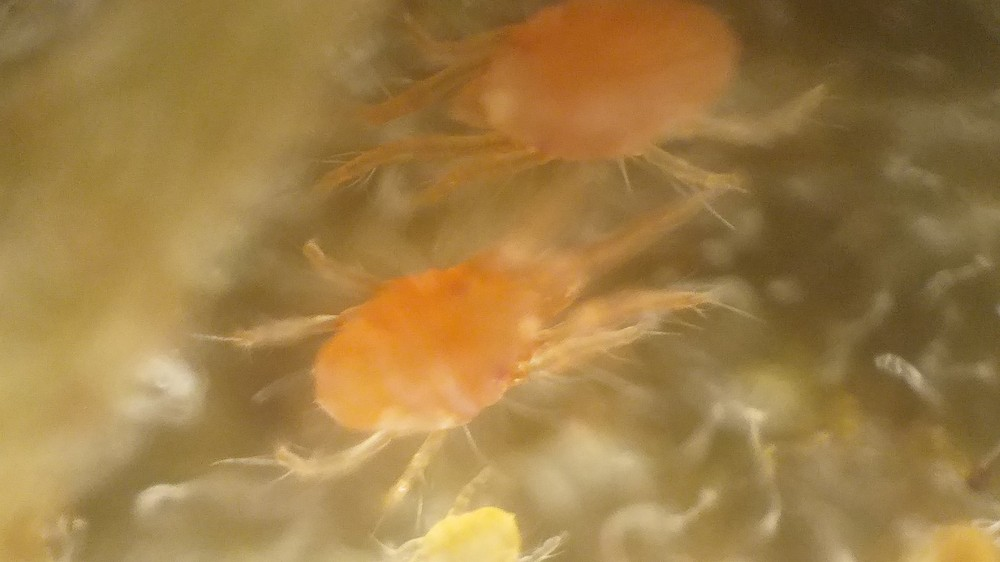Aracnido Rojo: (231, 205, 775, 502), (323, 3, 834, 215)
